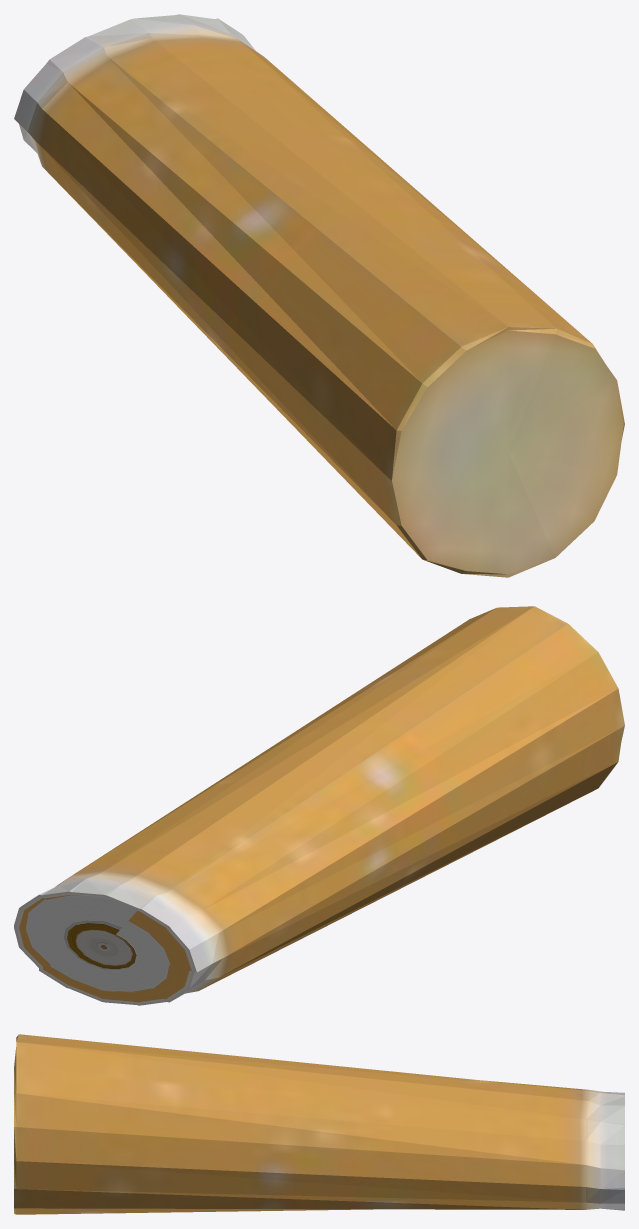
The model's file is CigaretteButt.obj.
3 views of the same model, one above another, from view 1: azimuth 30°, elevation 25°; view 2: azimuth 150°, elevation 25°; view 3: azimuth 270°, elevation 25° (orthographic). The views are drawn at different scales.
Parts seen in each view (by area): view 1: cigarette_case_cigarette_c; view 2: cigarette_case_cigarette_c; view 3: cigarette_case_cigarette_c.
Boxes of the visible parts, x1,y1,x2,y2 form: cigarette_case_cigarette_c: (14,14,624,577); cigarette_case_cigarette_c: (14,606,624,1005); cigarette_case_cigarette_c: (14,1034,624,1214).
Bounding box in the file's own units: 0.01 × 0.0074 × 0.025.
Materials: 1 (1 with a texture image).
